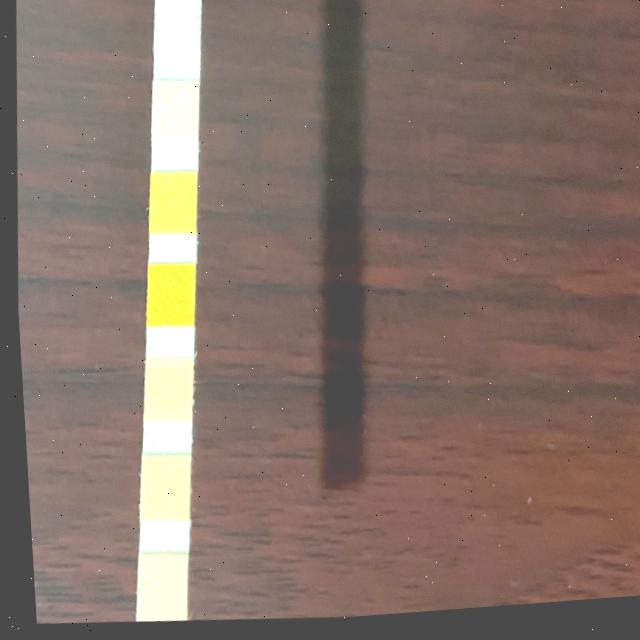Bilirubin: (154, 0, 202, 54)
Blood: (142, 264, 193, 330)
Ketone: (149, 80, 199, 146)
Protein: (133, 455, 186, 526)
SpGravity: (146, 172, 197, 238)
Urobilinogen: (129, 553, 181, 626)
pH: (138, 358, 190, 425)
